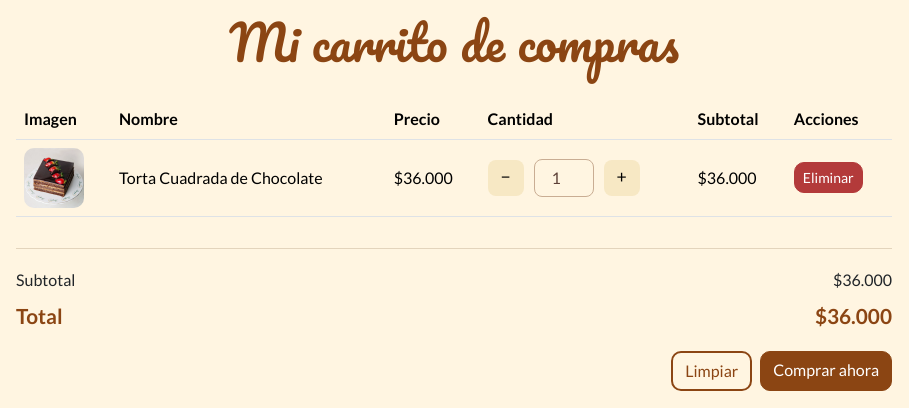
it: Página Carrito › suma una unidad al hacer clic en +
The width and height of the screenshot is (909, 408).
Click the button named "Sumar Torta Cuadrada de Chocolate". click: [622, 178]
box: [604, 160, 640, 196]
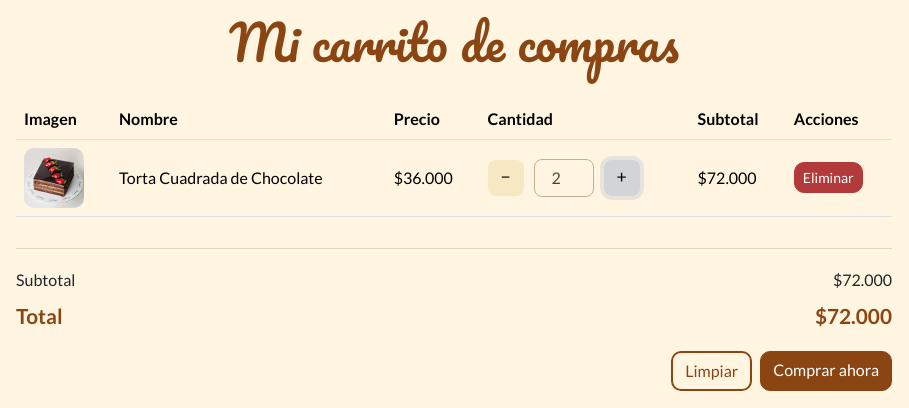
Result: the number field named "Cantidad Torta Cuadrada de Chocolate" holds "2" at [534, 159, 594, 197]
